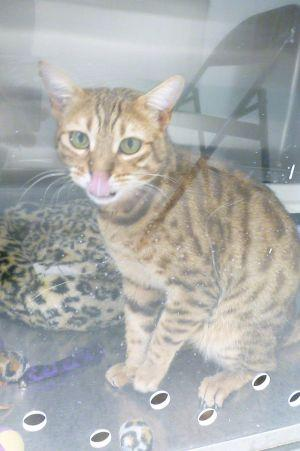bengal: (31, 58, 193, 212)
